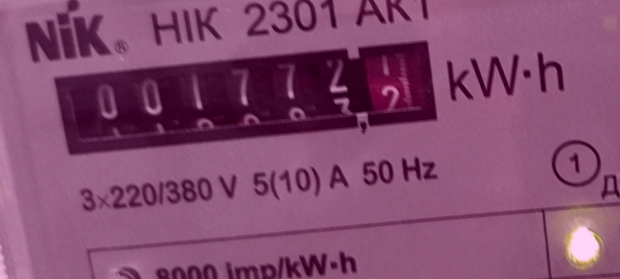0: (91, 78, 121, 120), (138, 75, 164, 115)
1: (187, 70, 206, 110), (378, 52, 393, 78)
2: (324, 56, 349, 95), (377, 81, 402, 111)
3: (332, 94, 355, 117)
7: (229, 65, 255, 107), (276, 61, 300, 100)
screen: (42, 28, 456, 166)
